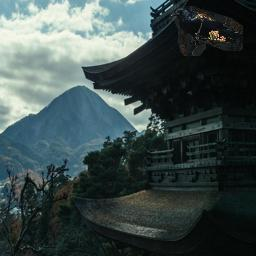Crow: (168, 6, 243, 56)
